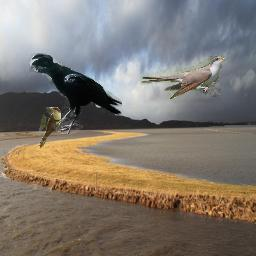Crow: (29, 53, 122, 134)
Cuckoo: (140, 56, 225, 99), (39, 107, 61, 148)
